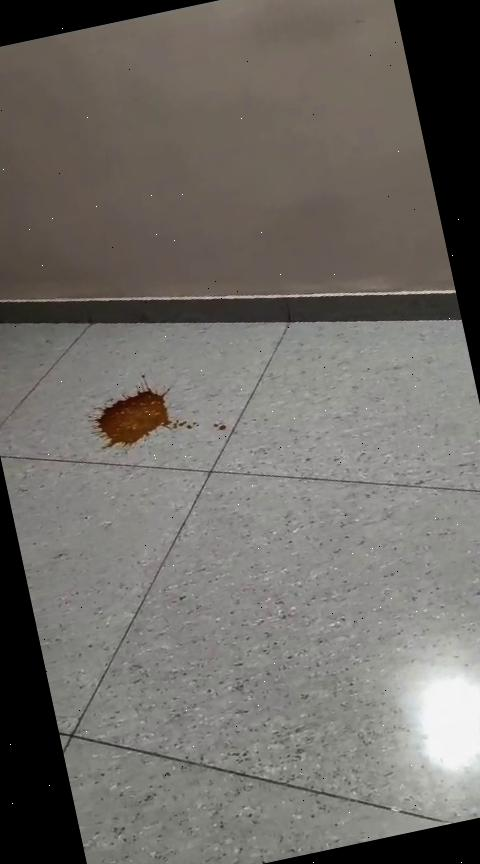dirty_floor: (81, 359, 230, 476)
